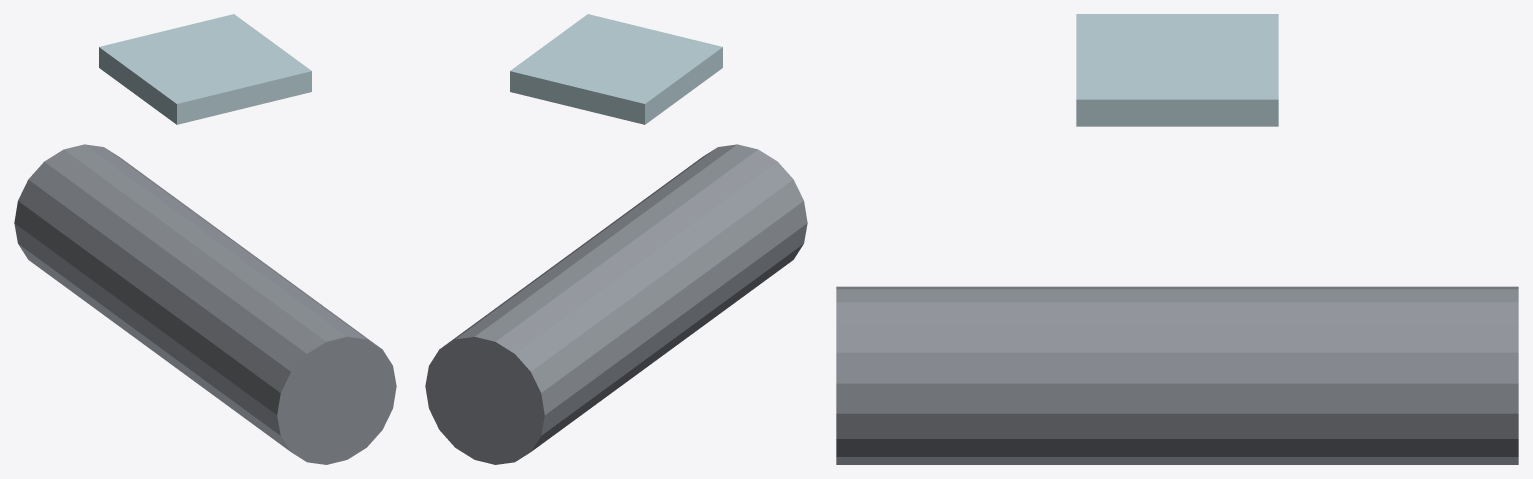
Rendered from neon_pillar.glb.
3 views of the same model, side by side, from view 1: azimuth 30°, elevation 25°; view 2: azimuth 150°, elevation 25°; view 3: azimuth 270°, elevation 25° (orthographic). The views are drawn at different scales.
Parts seen in each view (by area): view 1: world; view 2: world; view 3: world.
Part boxes in pixels (left/top/right/bottom): world: left=14, top=14, right=396, bottom=464; world: left=425, top=14, right=807, bottom=464; world: left=836, top=14, right=1518, bottom=464.
Bounding box in the file's own units: 0.95 × 2.06 × 3.2.
